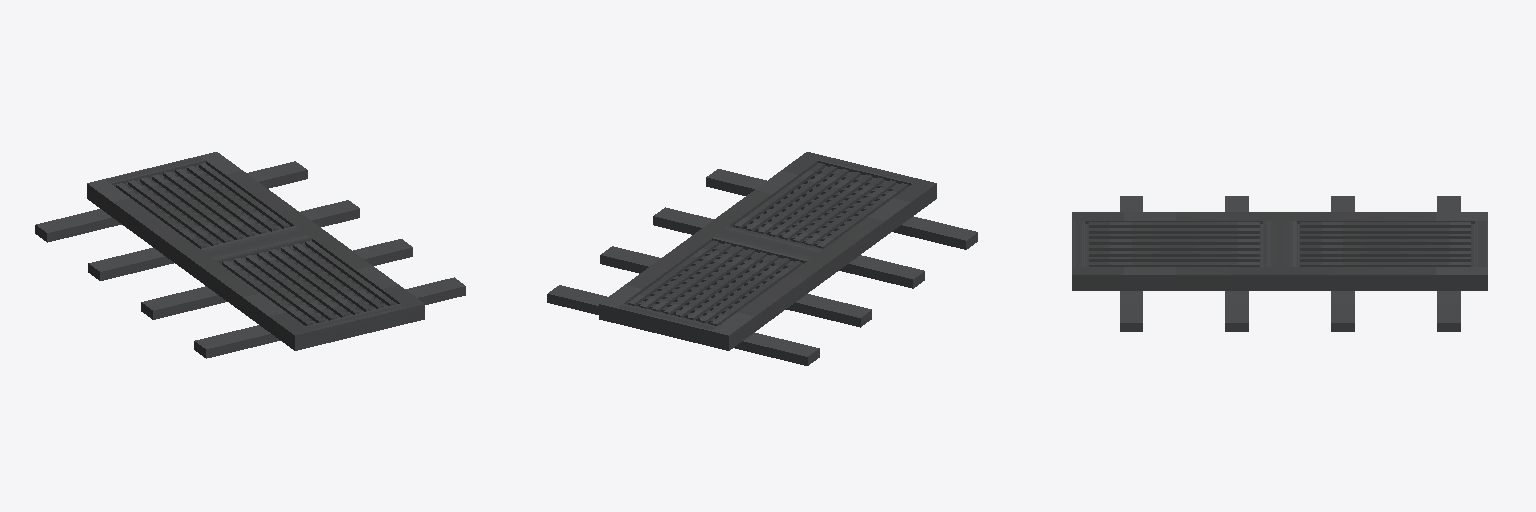
3 views of the same model, side by side, from view 1: azimuth 30°, elevation 25°; view 2: azimuth 150°, elevation 25°; view 3: azimuth 270°, elevation 25° (orthographic).
Parts seen in each view (by area): view 1: cube; view 2: cube; view 3: cube.
Boxes of the visible parts, x1=… form: cube: x1=35, y1=152, x2=465, y2=358; cube: x1=547, y1=152, x2=977, y2=365; cube: x1=1072, y1=196, x2=1487, y2=331.
Bounding box in the file's own units: 1.38 × 0.125 × 1.91.
Materials: 1 (1 with a texture image).